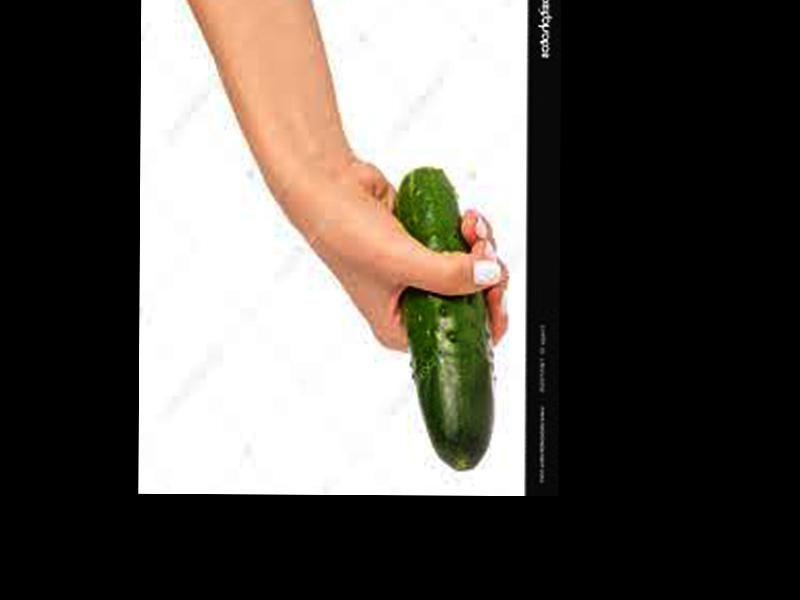Cucumber: (392, 168, 495, 471)
